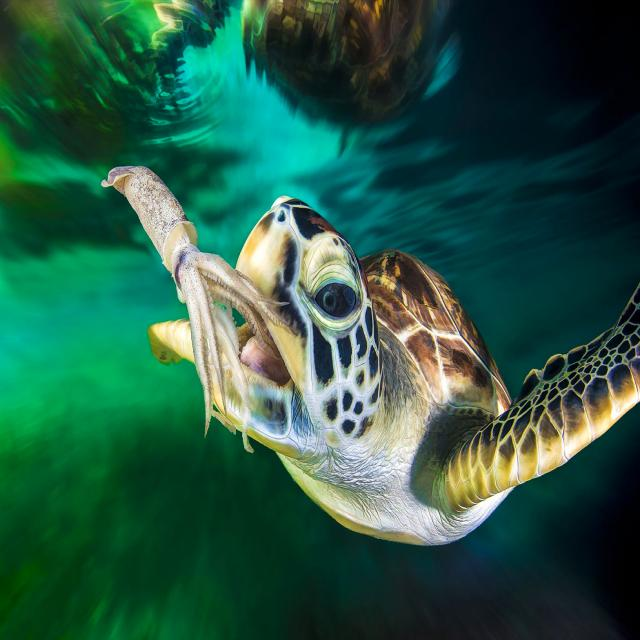turtle: (235, 196, 640, 544), (149, 320, 194, 364), (213, 381, 223, 408)
